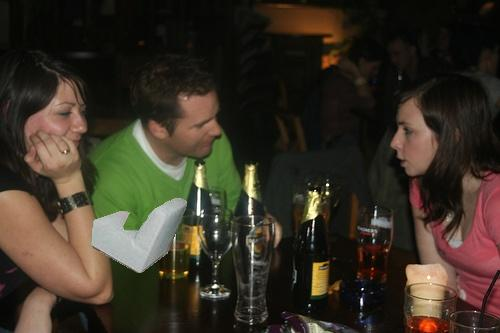tampered: (92, 199, 187, 273)
